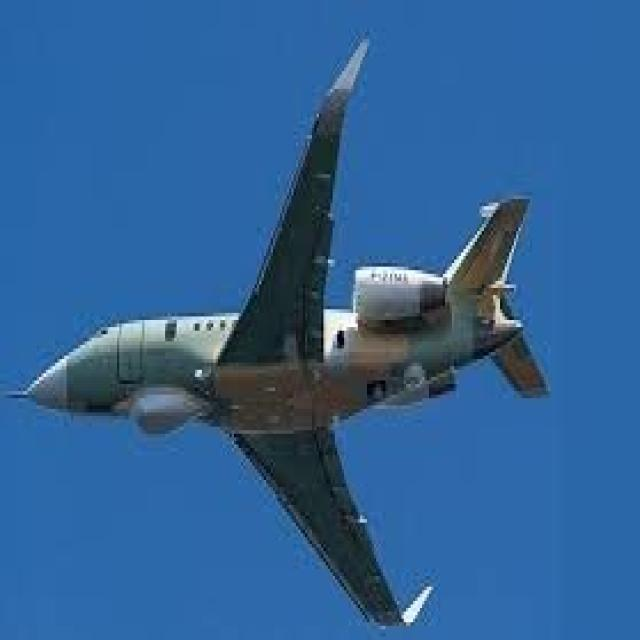jet: (9, 10, 582, 640)
